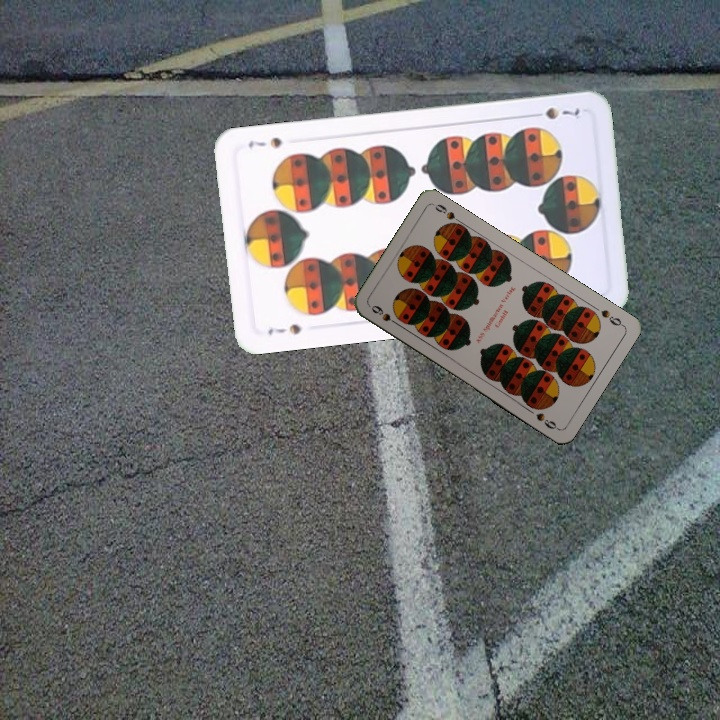S7: (526, 103, 582, 122), (264, 320, 304, 338)
S9: (367, 301, 403, 329), (597, 305, 626, 329)
